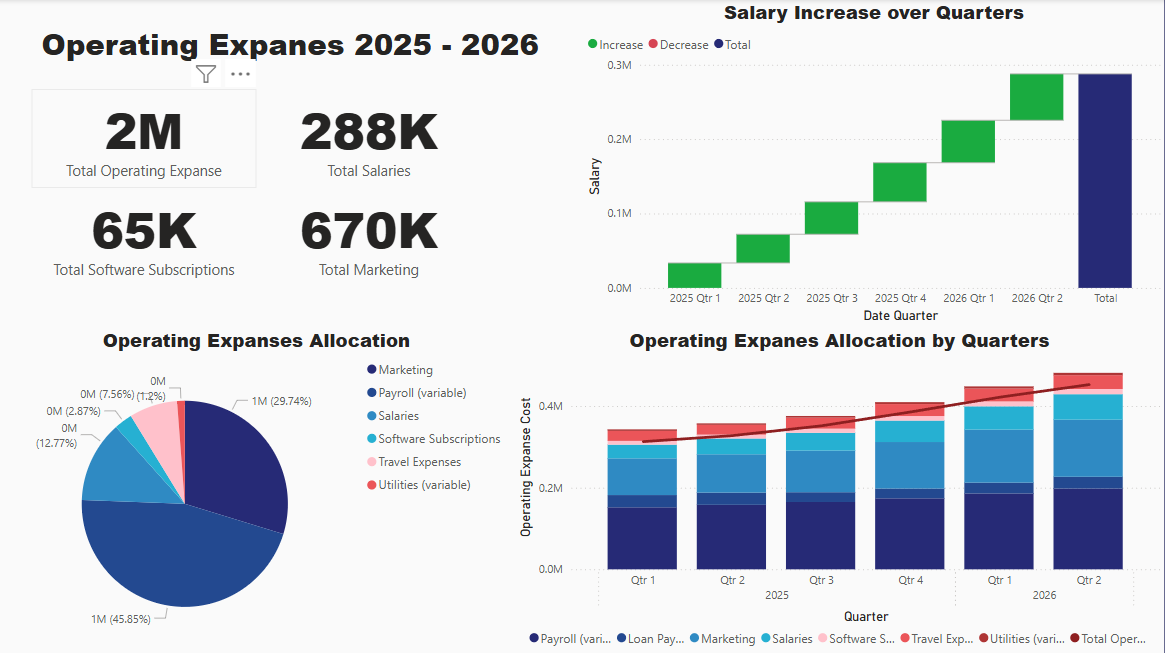

The page's visual inventory and layout, read from the dashboard file:
{"tool":"powerbi","page":{"name":"Operating Expanses","canvas":[1280,720],"ordinal":1},"visuals":[{"type":"shape","box":[0,0,1280.3,720.4],"z":0},{"type":"pieChart","title":"Operating Expanses Allocation","fields":{"Y":["Sum(fixed_expenses_data.Marketing)","Sum(fixed_expenses_data.Payroll (variable))","Sum(fixed_expenses_data.Salaries)","Sum(fixed_expenses_data.Software Subscriptions)","Sum(fixed_expenses_data.Travel Expenses)","Sum(fixed_expenses_data.Utilities (variable))"]},"box":[0,359.5,565.4,360.9],"z":1000},{"type":"lineStackedColumnComboChart","title":"Operating Expanes Allocation by Quarters","fields":{"Category":["fixed_expenses_data.Date.Variation.Date Hierarchy.Year","fixed_expenses_data.Date.Variation.Date Hierarchy.Quarter","fixed_expenses_data.Date.Variation.Date Hierarchy.Month","fixed_expenses_data.Date.Variation.Date Hierarchy.Day"],"Y":["Sum(fixed_expenses_data.Payroll (variable))","Sum(fixed_expenses_data.Loan Payments)","Sum(fixed_expenses_data.Marketing)","Sum(fixed_expenses_data.Salaries)","Sum(fixed_expenses_data.Software Subscriptions)","Sum(fixed_expenses_data.Travel Expenses)","Sum(fixed_expenses_data.Utilities (variable))"],"Y2":["fixed_expenses_data.Total Operating Expanse"]},"box":[565.4,359.5,714.9,360.9],"z":2000},{"type":"waterfallChart","title":"Salary Increase over Quarters","fields":{"Category":["fixed_expenses_data.Date.Variation.Date Hierarchy.Year","fixed_expenses_data.Date.Variation.Date Hierarchy.Quarter","fixed_expenses_data.Date.Variation.Date Hierarchy.Month","fixed_expenses_data.Date.Variation.Date Hierarchy.Day"],"Y":["Sum(fixed_expenses_data.Salaries)"]},"box":[640.5,0,639.5,360.9],"z":3000},{"type":"textbox","box":[0,22,639.5,60.4],"z":3001},{"type":"card","fields":{"Values":["fixed_expenses_data.Total Operating Expanse"]},"box":[35.7,98.8,247,108.4],"z":3002},{"type":"card","fields":{"Values":["Sum(fixed_expenses_data.Salaries)"]},"box":[282.7,98.8,247,108.4],"z":3003},{"type":"card","fields":{"Values":["Sum(fixed_expenses_data.Software Subscriptions)"]},"box":[35.7,207.2,247,108.4],"z":3004},{"type":"card","fields":{"Values":["Sum(fixed_expenses_data.Marketing)"]},"box":[282.7,207.2,247,108.4],"z":3005}]}

Visuals, with their boxes in screenshot pixels (x1, y1, x2, y2), scaled from the page's 1280x720 canvas onto the 1165x653 screenshot:
shape: {"x1": 0, "y1": 0, "x2": 1164, "y2": 652}
"Operating Expanses Allocation" pieChart: {"x1": 0, "y1": 326, "x2": 515, "y2": 652}
"Operating Expanes Allocation by Quarters" lineStackedColumnComboChart: {"x1": 515, "y1": 326, "x2": 1164, "y2": 652}
"Salary Increase over Quarters" waterfallChart: {"x1": 583, "y1": 0, "x2": 1164, "y2": 327}
textbox: {"x1": 0, "y1": 20, "x2": 582, "y2": 75}
card - fixed_expenses_data.Total Operating Expanse: {"x1": 32, "y1": 90, "x2": 257, "y2": 188}
card - Sum(fixed_expenses_data.Salaries): {"x1": 257, "y1": 90, "x2": 482, "y2": 188}
card - Sum(fixed_expenses_data.Software Subscriptions): {"x1": 32, "y1": 188, "x2": 257, "y2": 286}
card - Sum(fixed_expenses_data.Marketing): {"x1": 257, "y1": 188, "x2": 482, "y2": 286}
